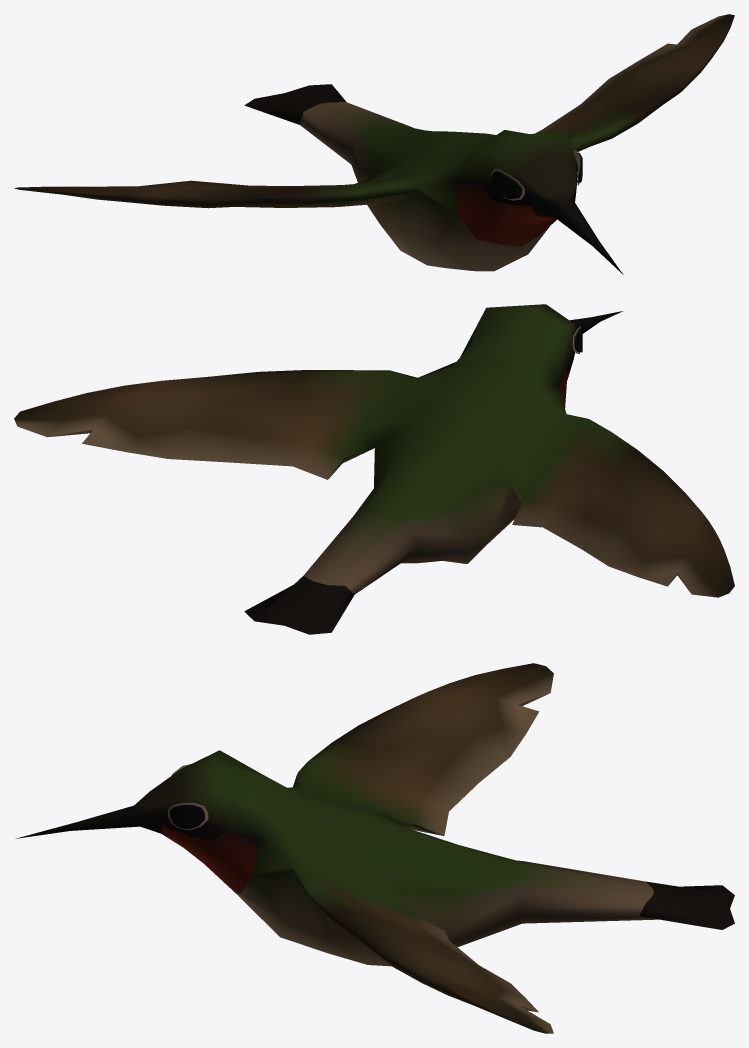
File: Hummingbird.fbx
3 renders of one model, top to bottom at view 1: azimuth 30°, elevation 25°; view 2: azimuth 150°, elevation 25°; view 3: azimuth 270°, elevation 25°, orthographic. The views are drawn at different scales.
Parts seen in each view (by area): view 1: base.108; view 2: base.108; view 3: base.108.
Boxes of the visible parts, x1,y1,x2,y2 form: base.108: (14,14,734,274); base.108: (14,304,734,634); base.108: (15,663,734,1033).
Size of the model in its own units: 0.3849 by 0.0955 by 0.3191.
